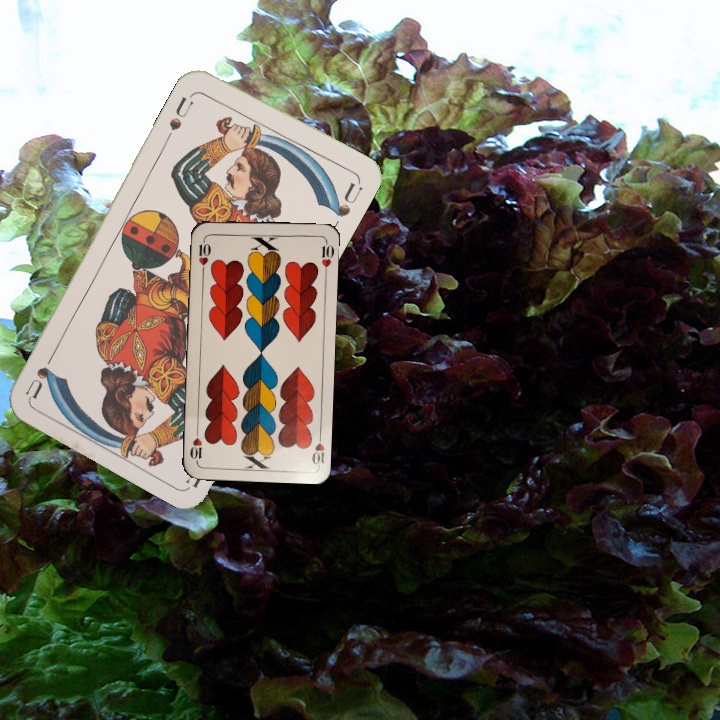H10: (194, 234, 213, 275), (308, 427, 327, 468)
SU: (162, 92, 196, 141)
